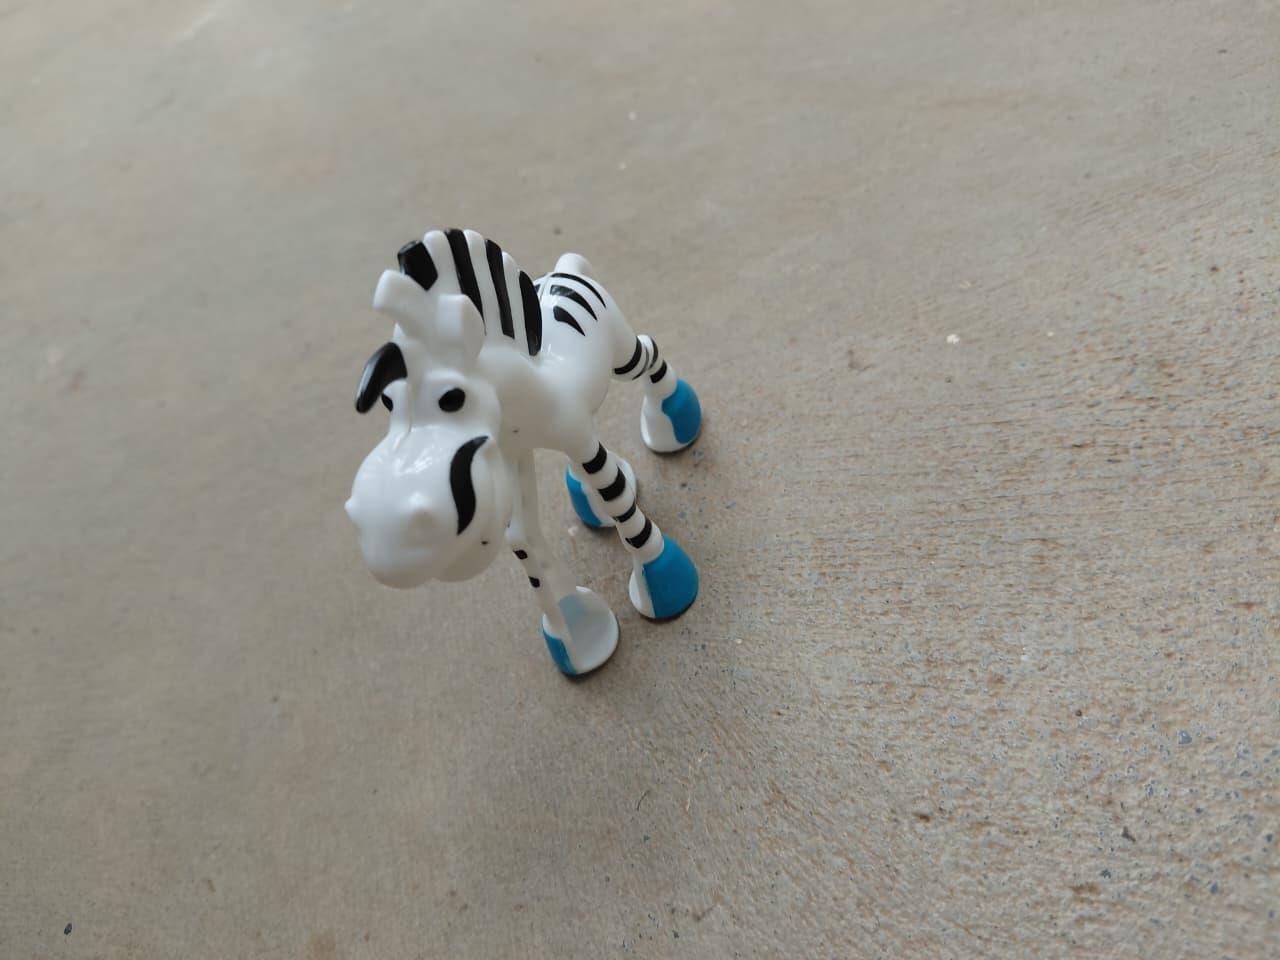zebra: (328, 227, 733, 686)
